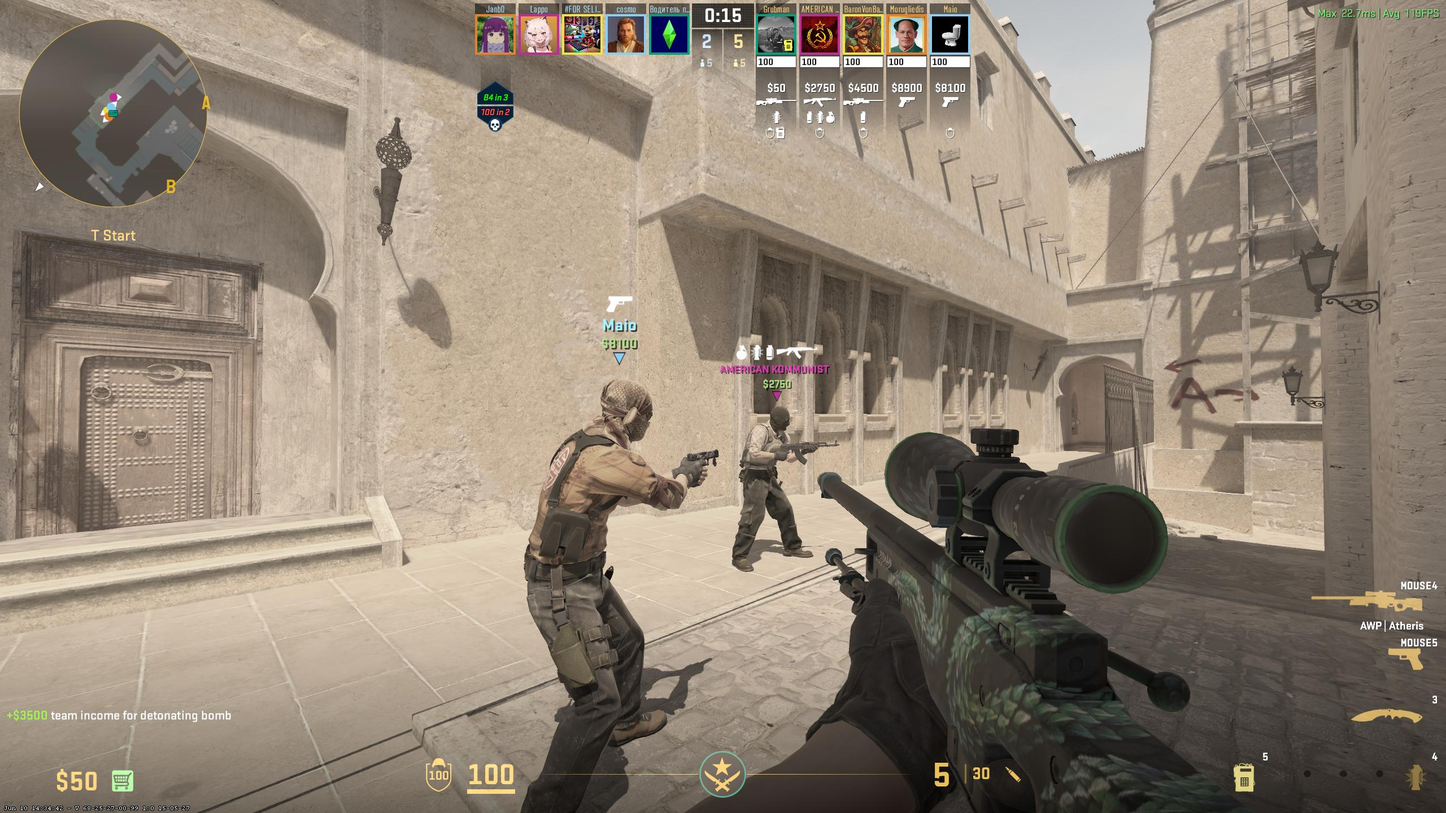Terrorist: (520, 388, 694, 810), (731, 414, 806, 569)
